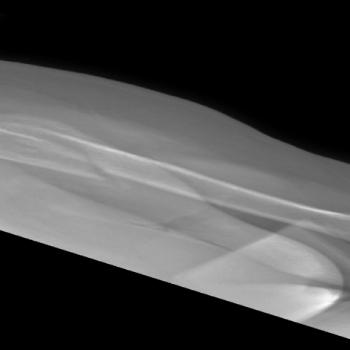Fracture: (60, 140, 110, 182)
